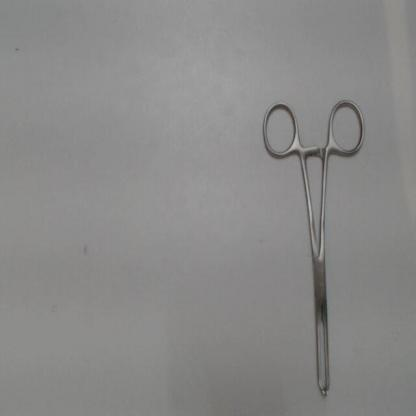Allis Tissue Forceps: (257, 93, 372, 407)
